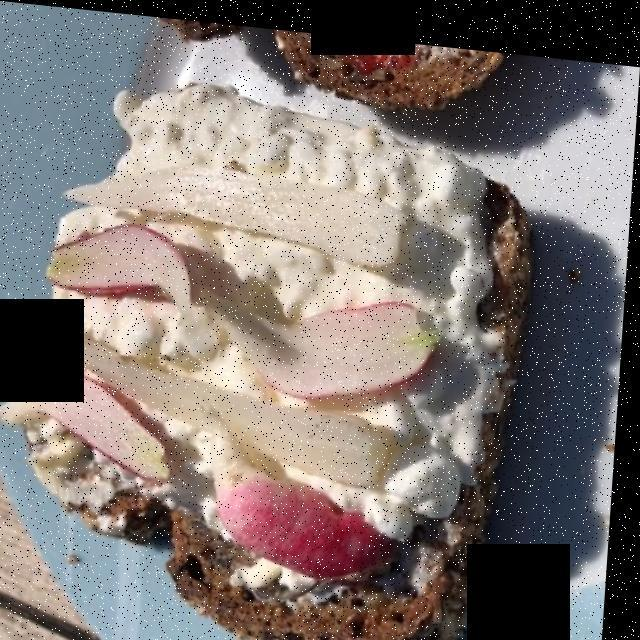bread: (20, 75, 520, 640)
cheese: (17, 82, 483, 570)
radish: (1, 229, 436, 560), (34, 170, 412, 473)
